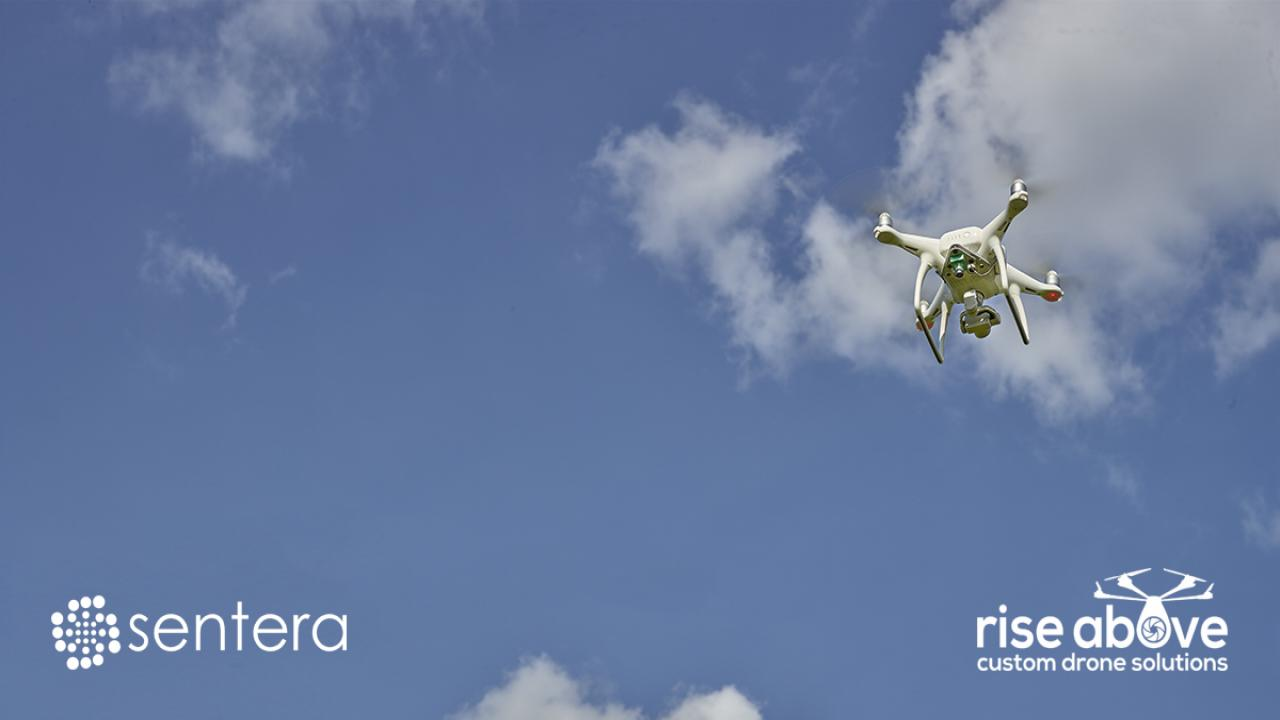Drone: (831, 162, 1092, 380)
